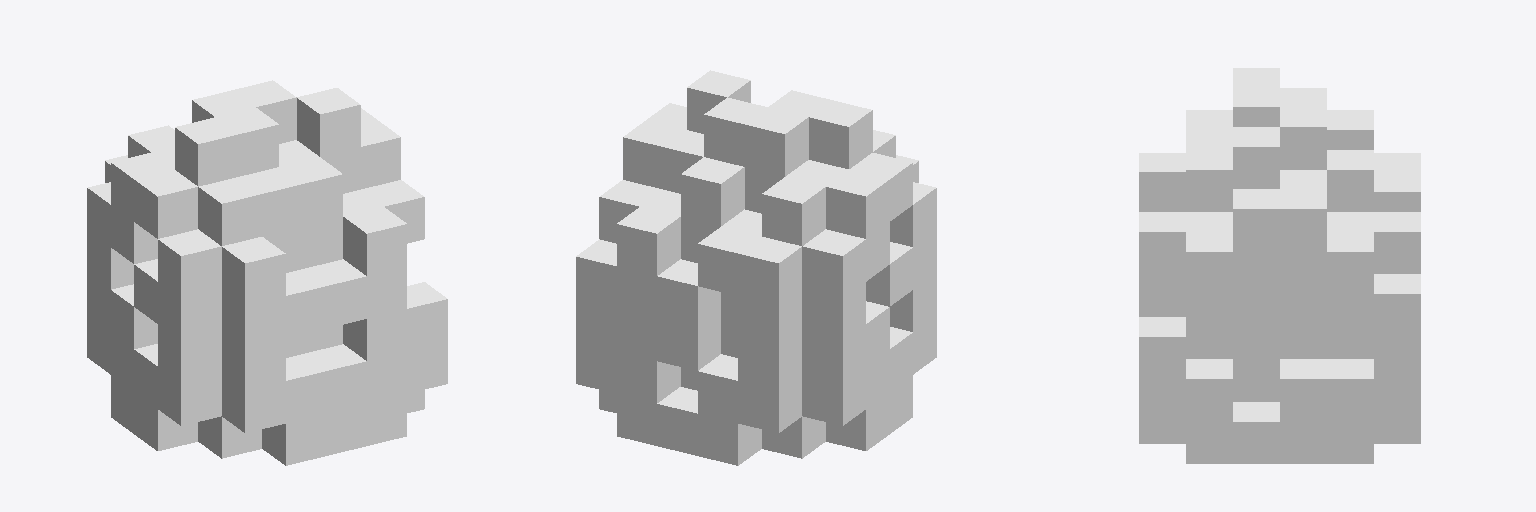
The model's file is Knight1_Damage_F1.obj.
3 renders of one model, left to right at view 1: azimuth 30°, elevation 25°; view 2: azimuth 150°, elevation 25°; view 3: azimuth 270°, elevation 25°, orthographic.
Visible parts, largest first — view 1: object 1; view 2: object 1; view 3: object 1.
Part boxes in pixels (x1,y1,x2,y2): object 1: (87, 80, 447, 465); object 1: (576, 70, 936, 465); object 1: (1139, 68, 1420, 463).
Bounding box in the file's own units: 0.6 × 0.7 × 0.6.